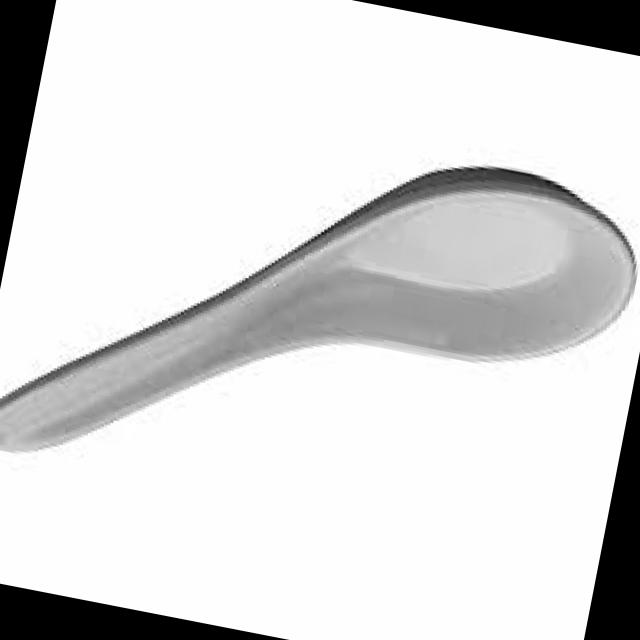spoon: (0, 19, 640, 587)
